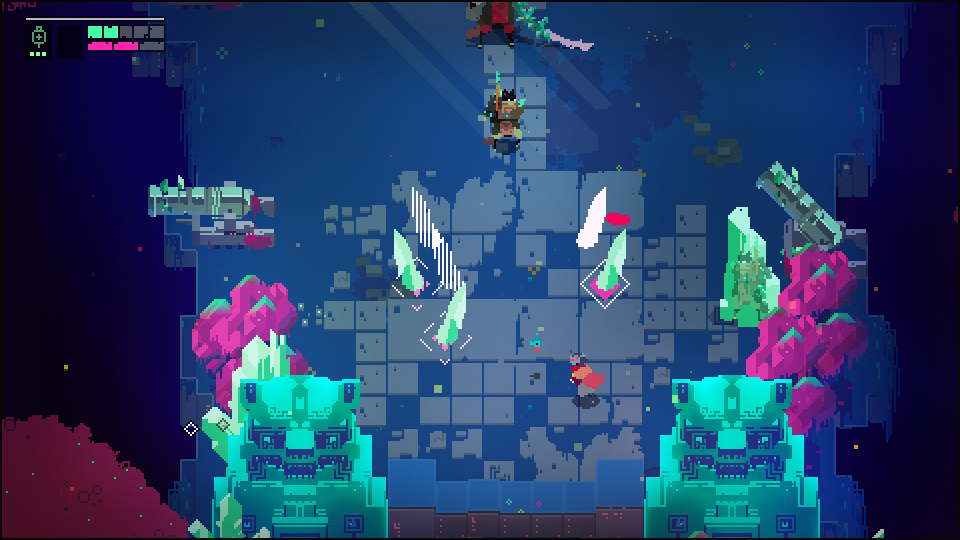hanged_crys: (438, 279, 474, 345), (593, 230, 629, 292), (391, 229, 426, 289), (578, 189, 610, 248)
hanged_man: (455, 1, 555, 46)
player: (566, 351, 602, 397)
